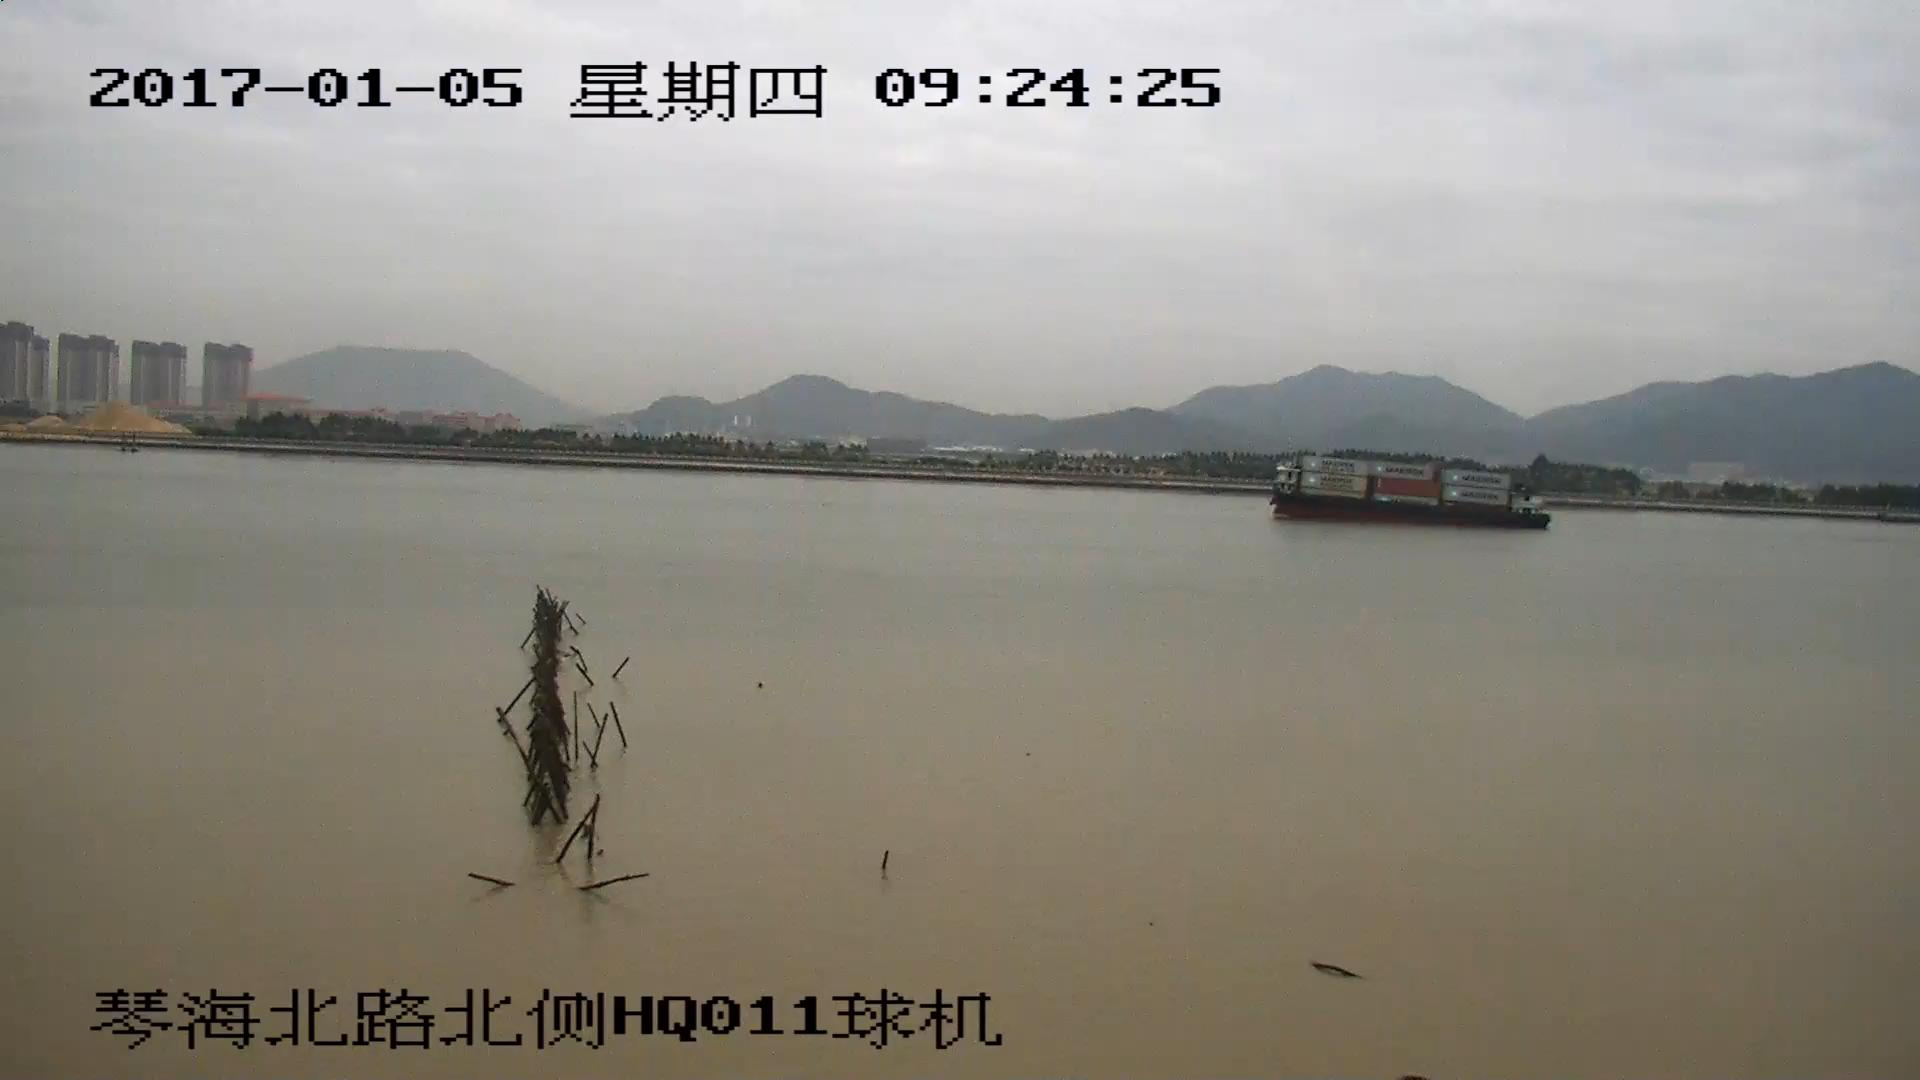container ship: (1272, 457, 1546, 527)
